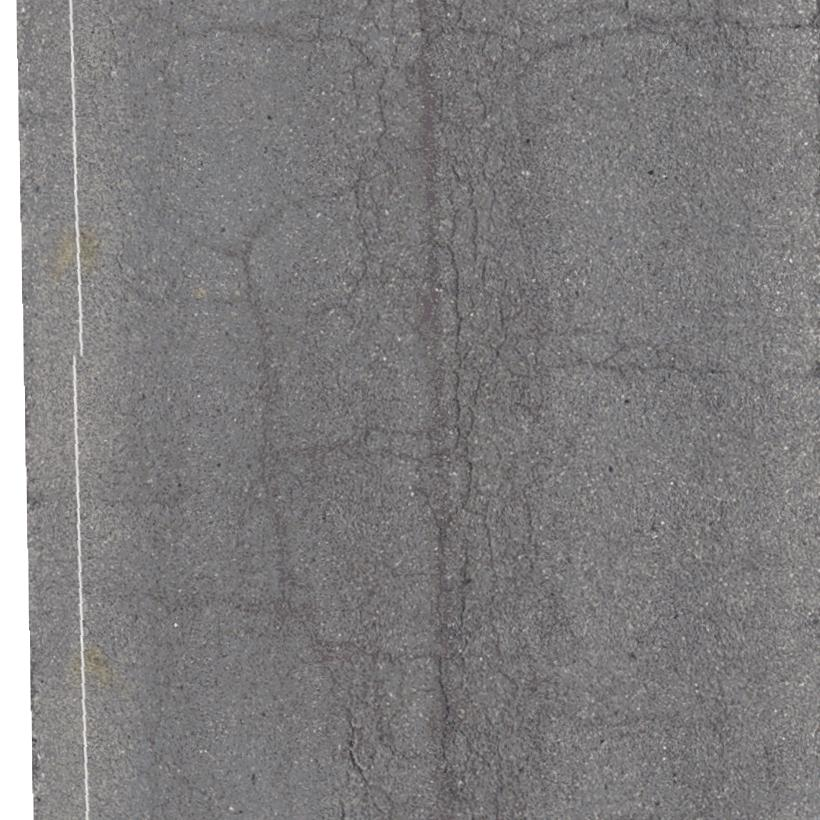GRIETA: (238, 251, 290, 606), (537, 19, 819, 56), (244, 187, 346, 246), (553, 359, 733, 375)
PIEL DE COCODRILO: (408, 1, 552, 796), (345, 0, 421, 296), (318, 638, 409, 819)
